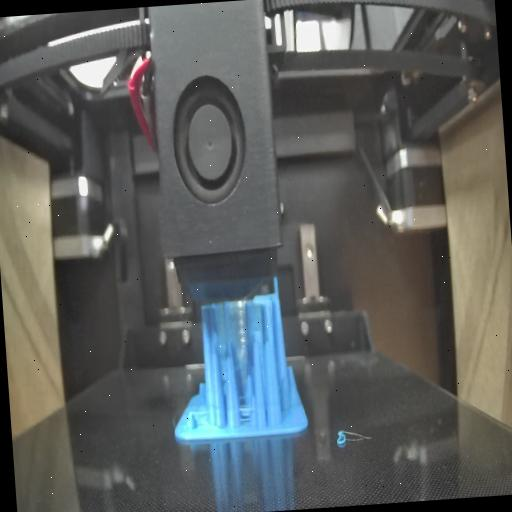stringing: (214, 300, 263, 354), (237, 402, 255, 428)
